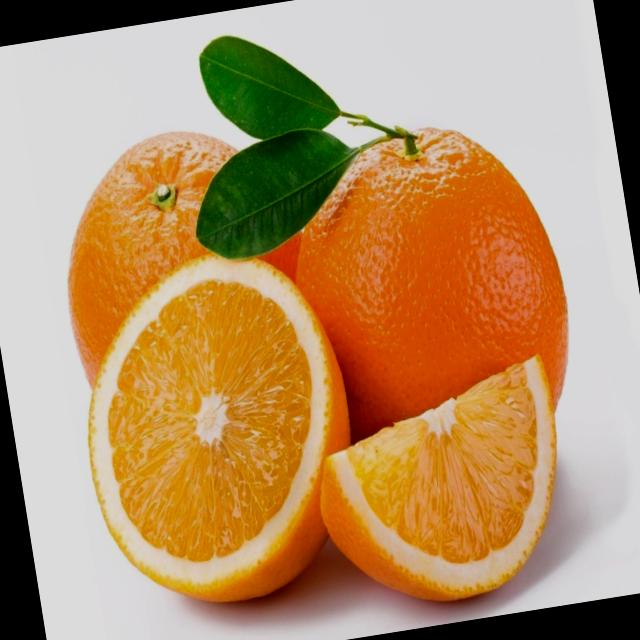orange: (254, 99, 604, 525), (36, 95, 364, 487)
